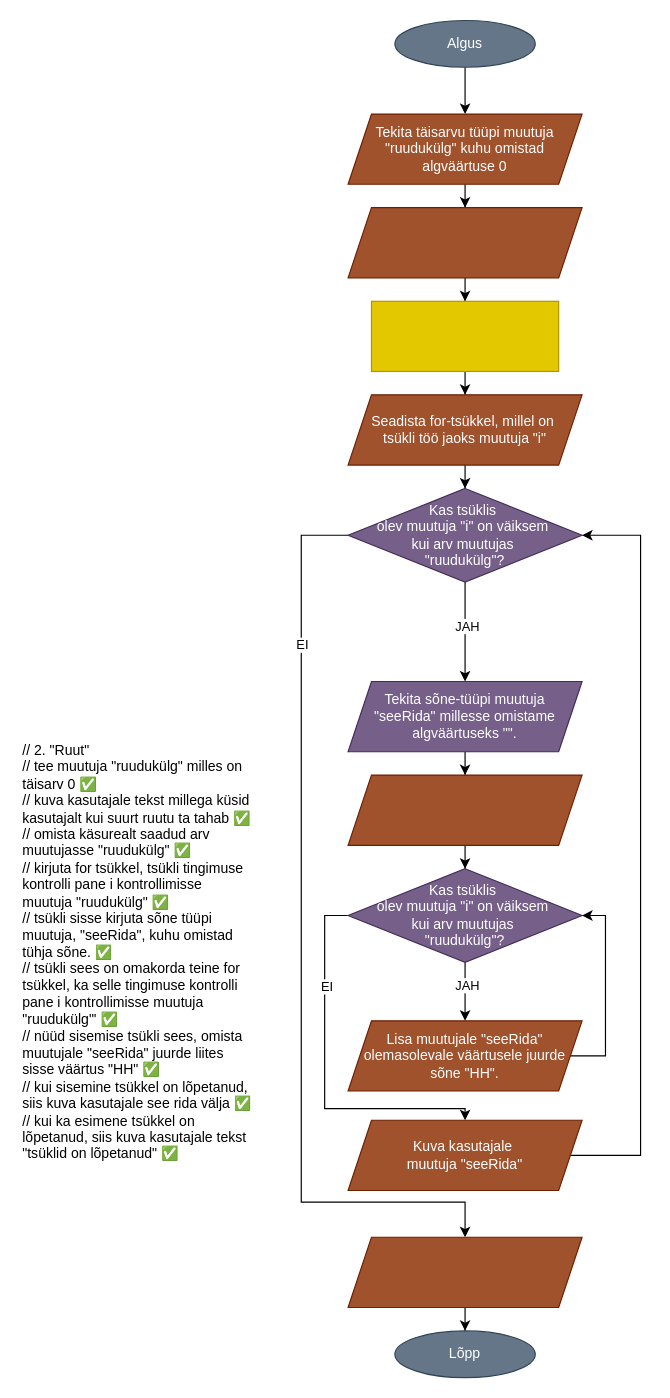
Some shapes in this 670 by 1398 pixel diagram are drawn without their labels. Here are the shapes that lost their labels. From the top down, the centre of each, then its label:
(464,242): Kuva kasutajale tekst "Kui suurt ruutu te tahate"
(464,335): Oota kuni kasutaja sisestab käsureale muutjasse "ruudukülg" omistatava arvu
(464,809): Seadista teine for-tsükkel, millel on tsükli töö jaoks muutuja "i"
(464,1271): Kuva kasutajale tekst "tsüklid on lõpetanud"
